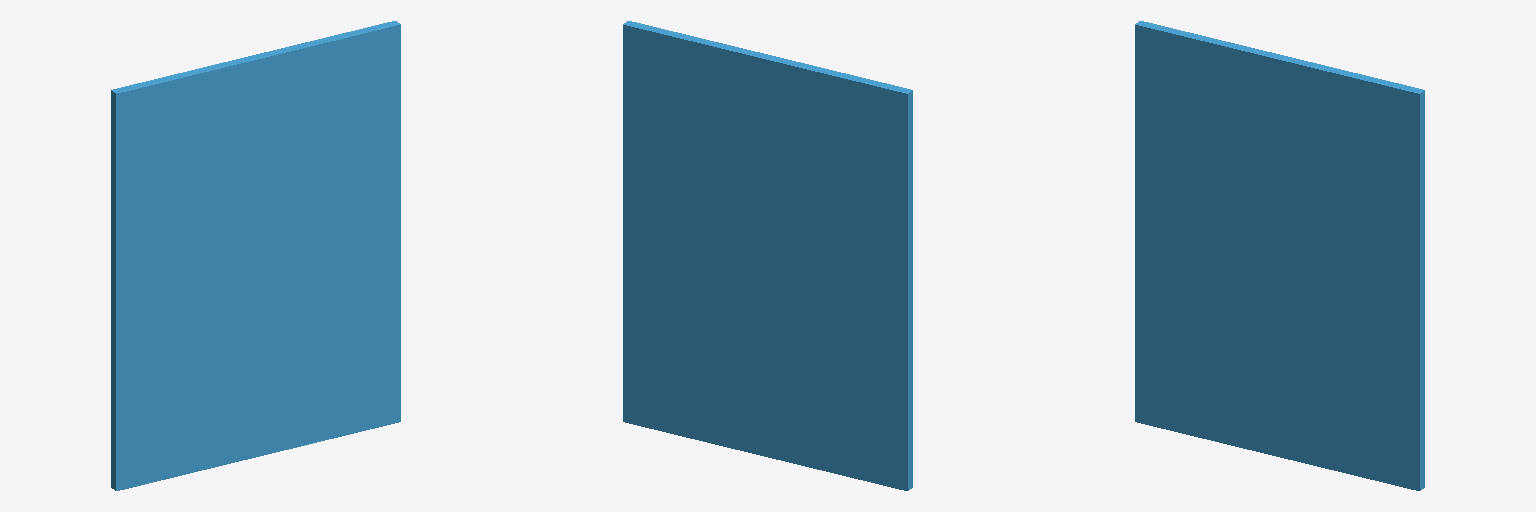
robot.urdf — status_3:
<?xml version="1.0"?>
<robot xmlns:xacro="http://ros.org/wiki/xacro" name="status_3">

<link name="world"/>
  <joint name="status_3_pose" type="fixed">
    <axis xyz="1 0 0"/>
    <parent link="world"/>
    <origin rpy="0 0 0" xyz="5.85 8.2495 1.535"/>
    <child link="status_3"/>
    <dynamics damping="100" friction="1000"/>
  </joint>
         
<link name="status_3">
     <inertial>
      <origin xyz="0 0 0" rpy="0 0 0" /> 
      <mass value="0.002" />
      <inertia  ixx="1.0" ixy="0.0"  ixz="0.0"  iyy="100.0"  iyz="0.0"  izz="1.0" />
    </inertial>
    <visual>
      <origin xyz="0 0 0" rpy="0 0 0" /> 
      <geometry>
        <box size="0.03 0.001 0.04" />
      </geometry>
    </visual>
    <collision name="status_3">
     <origin xyz="0 0 0" rpy="0 0 0" /> 
      <geometry>
       <box size="0.03 0.001 0.04" />
      </geometry>
    </collision>
  </link>
  <gazebo reference="status_3">
    <material>Gazebo/Red</material>    
  </gazebo>
</robot>

--- Render facts (derived) ---
3 views of the same robot in one strip: view 1: azimuth 30°, elevation 25°; view 2: azimuth 150°, elevation 25°; view 3: azimuth 330°, elevation 25° (orthographic).
Model status_3 with 2 links and 1 joints (1 fixed), rooted at world, posed all joints at 0.
Visible links, largest first — view 1: status_3; view 2: status_3; view 3: status_3.
Boxes of the visible links, bbox=[...] form: status_3: bbox=[111, 21, 400, 490]; status_3: bbox=[623, 21, 912, 490]; status_3: bbox=[1135, 21, 1424, 490].
Size in the robot's own frame: 0.03 by 0.001 by 0.04 metres.
Geometry: primitives only (box / cylinder / sphere), no mesh files.